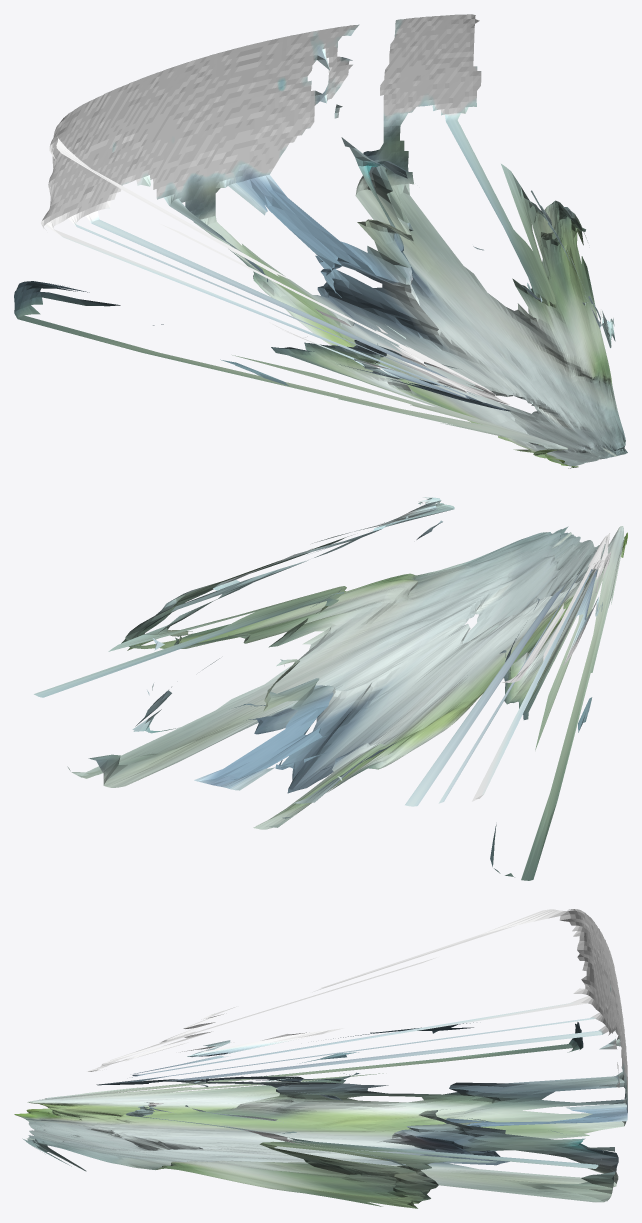
3 renders of one model, top to bottom at view 1: azimuth 30°, elevation 25°; view 2: azimuth 150°, elevation 25°; view 3: azimuth 270°, elevation 25°, orthographic. The views are drawn at different scales.
Visible parts, largest first — view 1: defaultobject; view 2: defaultobject; view 3: defaultobject.
Part boxes in pixels (bbox=[...]): defaultobject: bbox=[14, 14, 627, 468]; defaultobject: bbox=[34, 497, 627, 880]; defaultobject: bbox=[14, 909, 627, 1208].
Bounding box in the file's own units: 34.87 × 15.73 × 45.45.
1 material, 1 textured.
